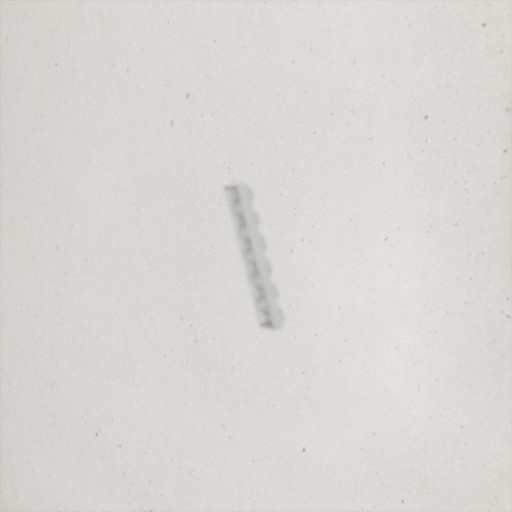lego: (223, 183, 286, 332)
